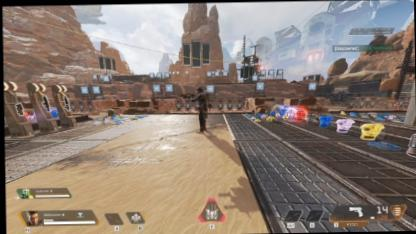Target: (194, 86, 208, 132)
